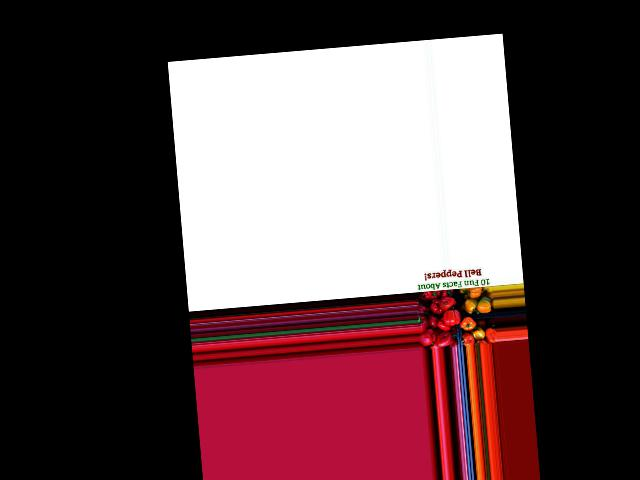bell_pepper: (423, 287, 445, 303)
